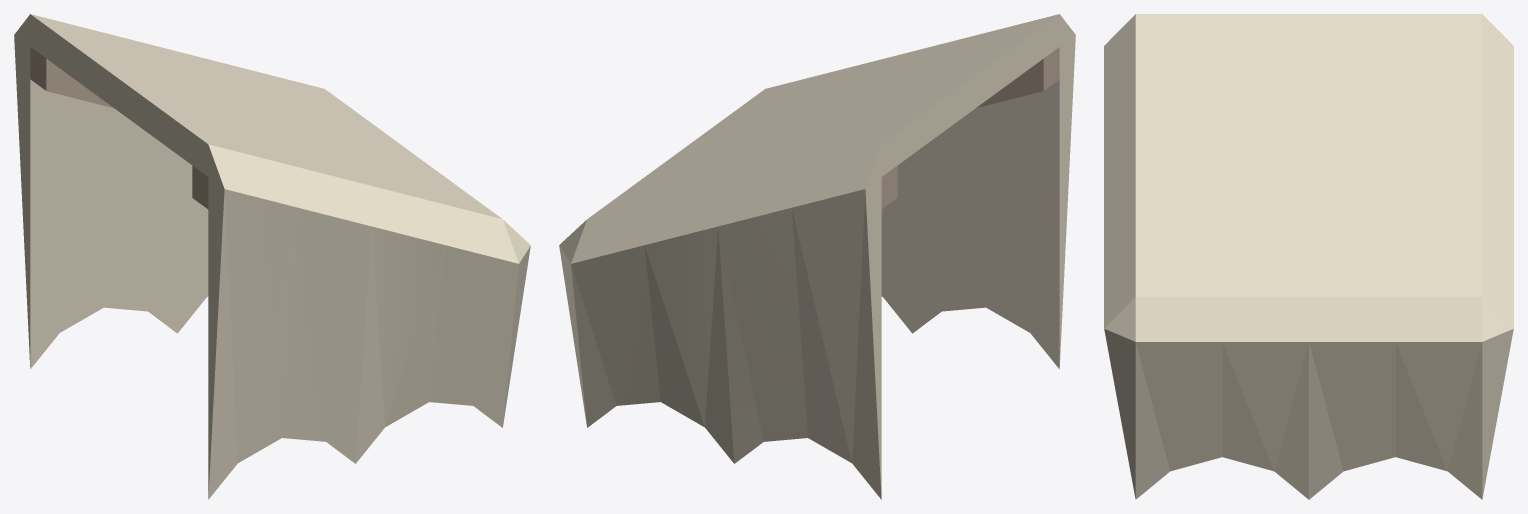
Rendered from Canopy_Ramp_Full.glb.
3 renders of one model, left to right at view 1: azimuth 30°, elevation 25°; view 2: azimuth 150°, elevation 25°; view 3: azimuth 270°, elevation 25°, orthographic. The views are drawn at different scales.
Visible parts, largest first — view 1: object2, object1; view 2: object2, object1; view 3: object2.
Boxes of the visible parts, x1,y1,x2,y2 form: object2: (14, 14, 530, 499); object1: (30, 47, 208, 209); object2: (559, 14, 1075, 499); object1: (881, 47, 1059, 209); object2: (1104, 14, 1513, 499).
Size of the model in its own units: 1.15 by 1.21 by 1.3.
